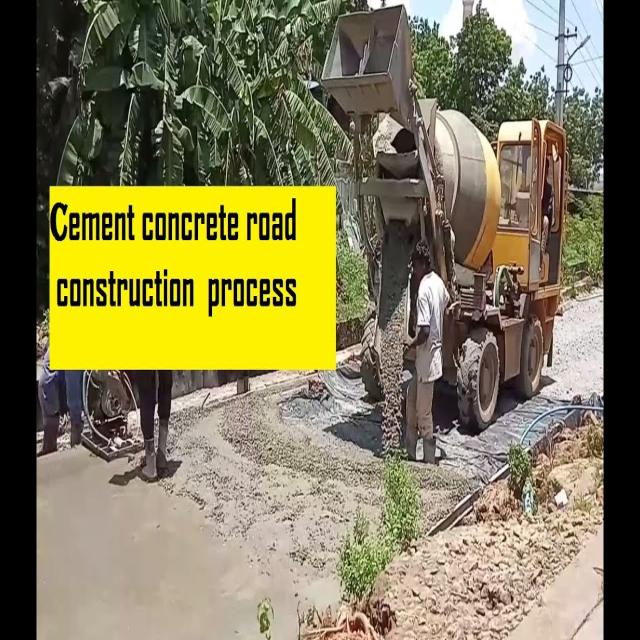truck: (321, 7, 566, 451)
